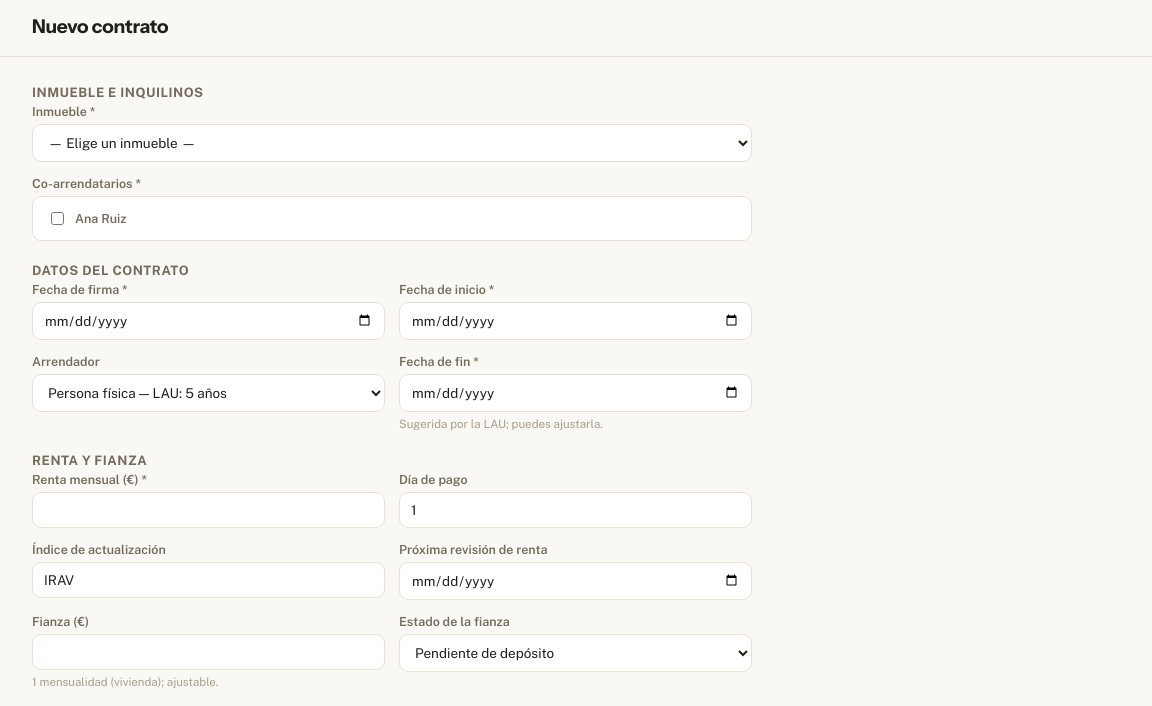
Test: ContratoForm — sugerencias LAU › sobre un inmueble compartido, no deja guardar hasta elegir la habitación
Select "Bravo Murillo 210 (compartido)" in the dropdown labelled "Inmueble *" at x=392, y=143, box x1=32 y1=124 x2=752 y2=162
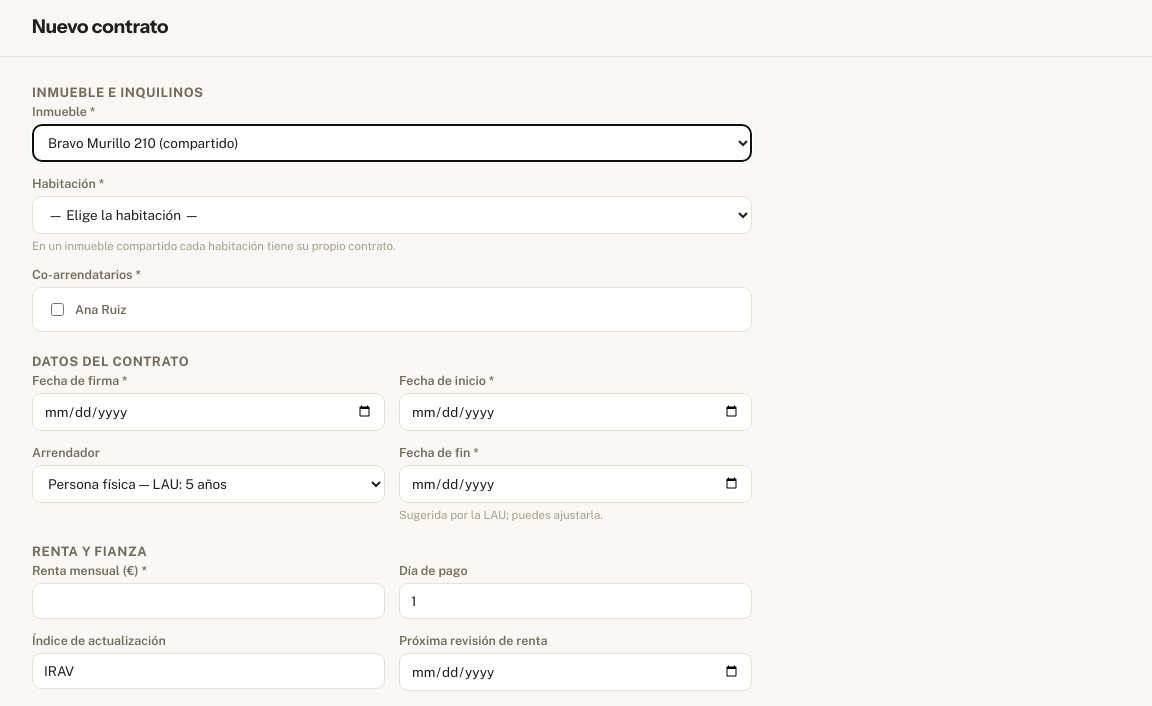
Click the checkbox labelled "Ana Ruiz" at x=58, y=310, box x1=51 y1=303 x2=64 y2=316
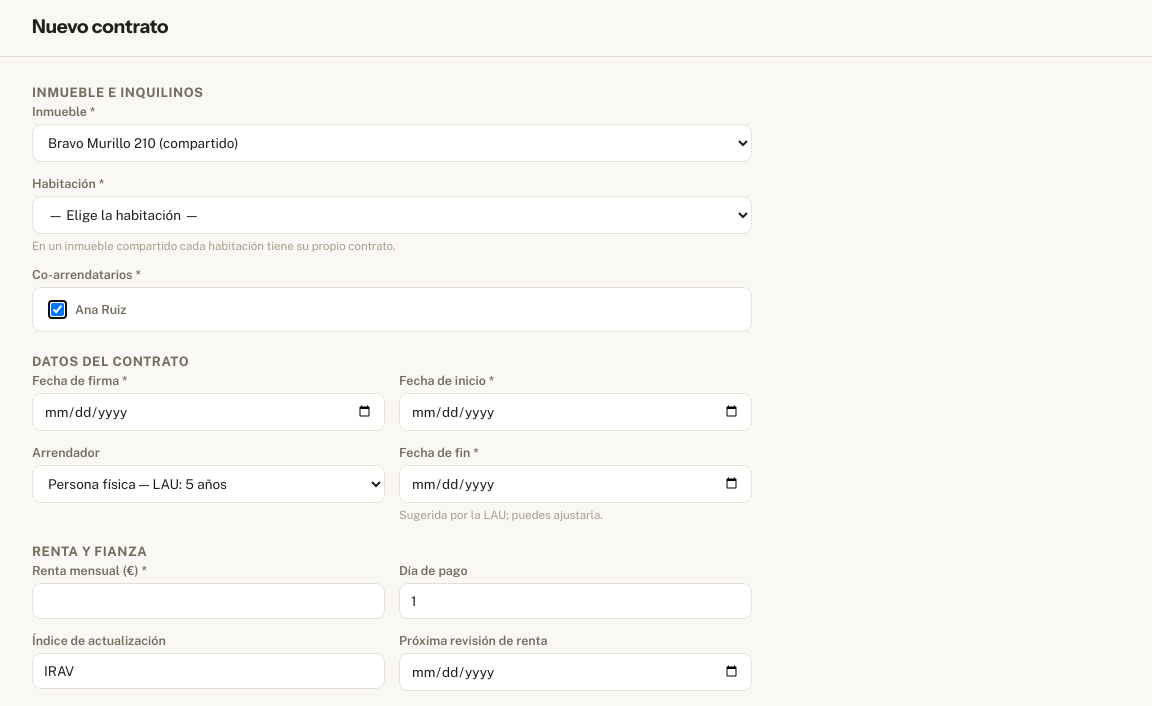
Type "2026-02-01" into the date field labelled "Fecha de firma *" at x=208, y=412, box x1=32 y1=393 x2=385 y2=431
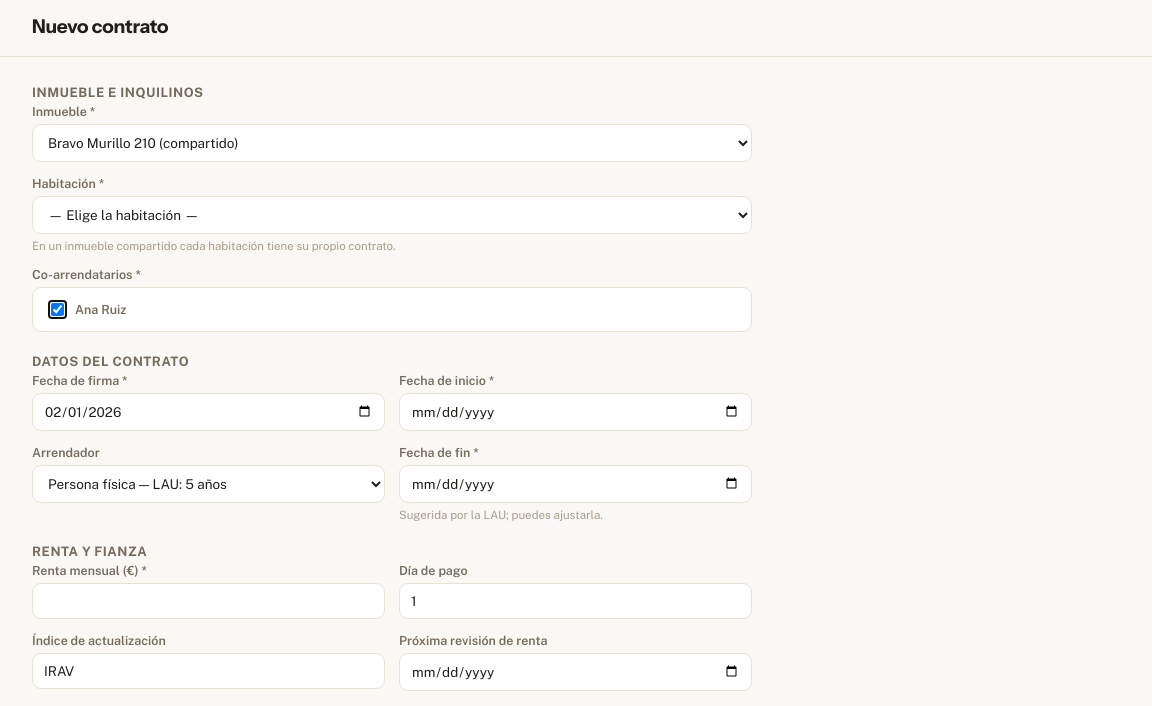
Type "2026-02-01" into the date field labelled "Fecha de inicio *" at x=576, y=412, box x1=399 y1=393 x2=752 y2=431
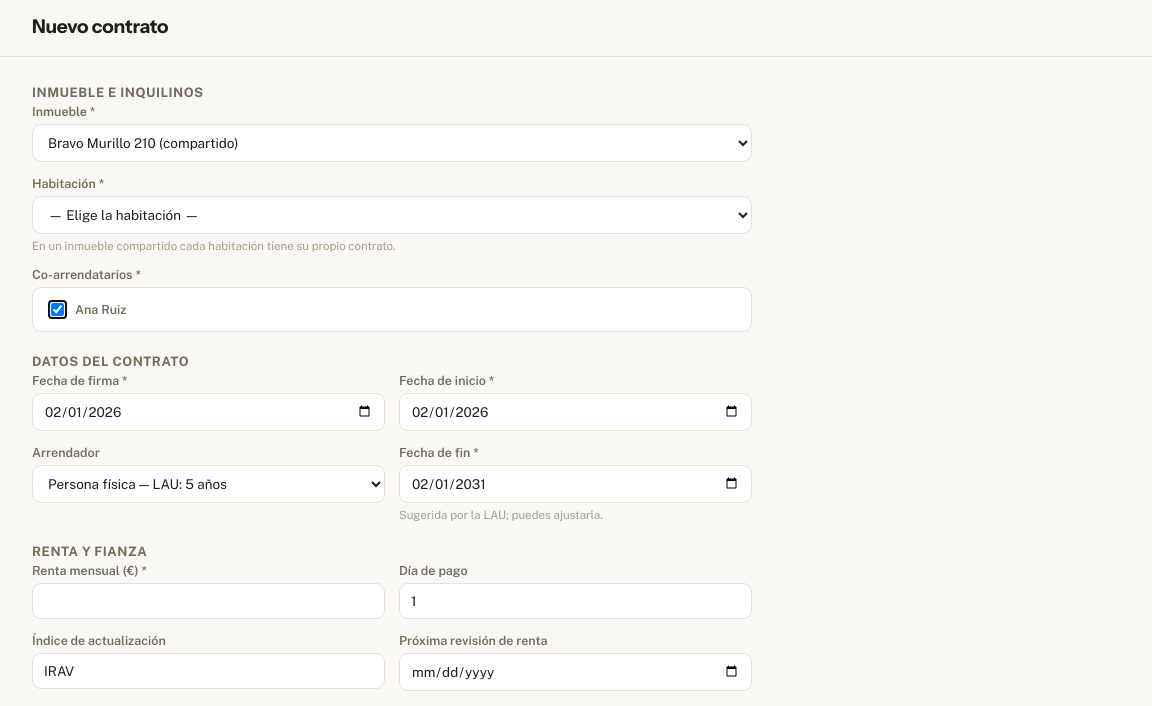
Type "600" into the number field labelled "Renta mensual (€) *" at x=208, y=601, box x1=32 y1=583 x2=385 y2=619
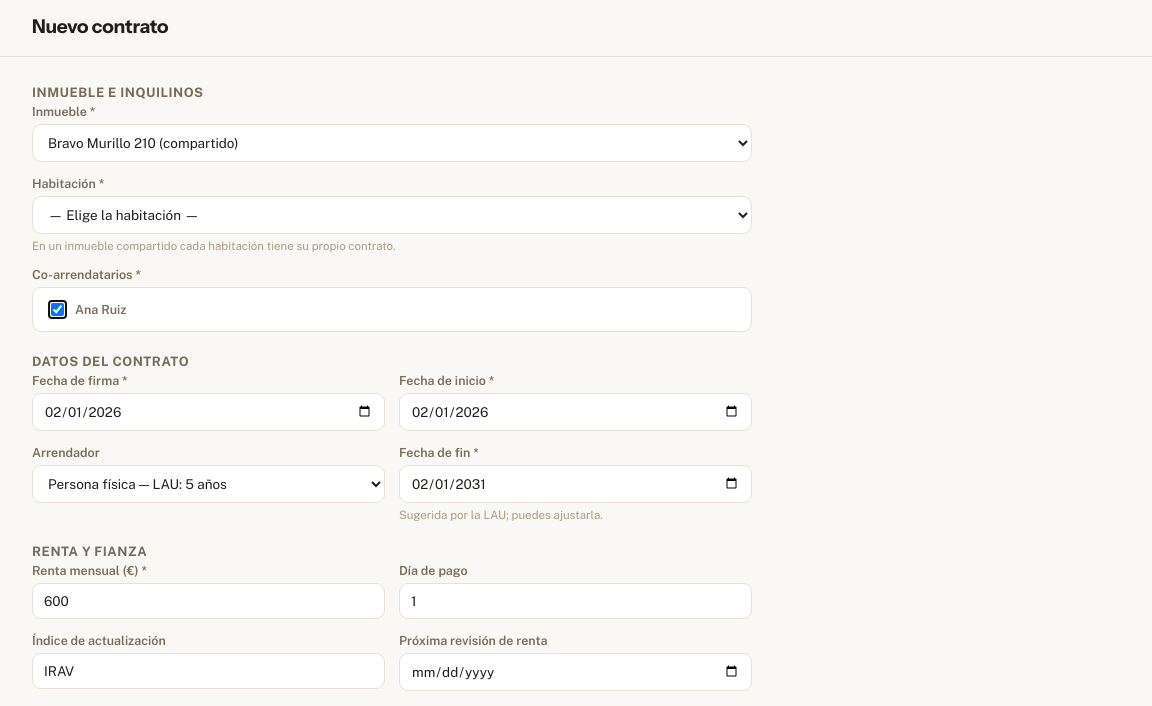
Expected: the dropdown labelled "Habitación *" is shown
Select "Habitación 1" in the dropdown labelled "Habitación *" at x=392, y=215, box x1=32 y1=196 x2=752 y2=234
(page scrolled)
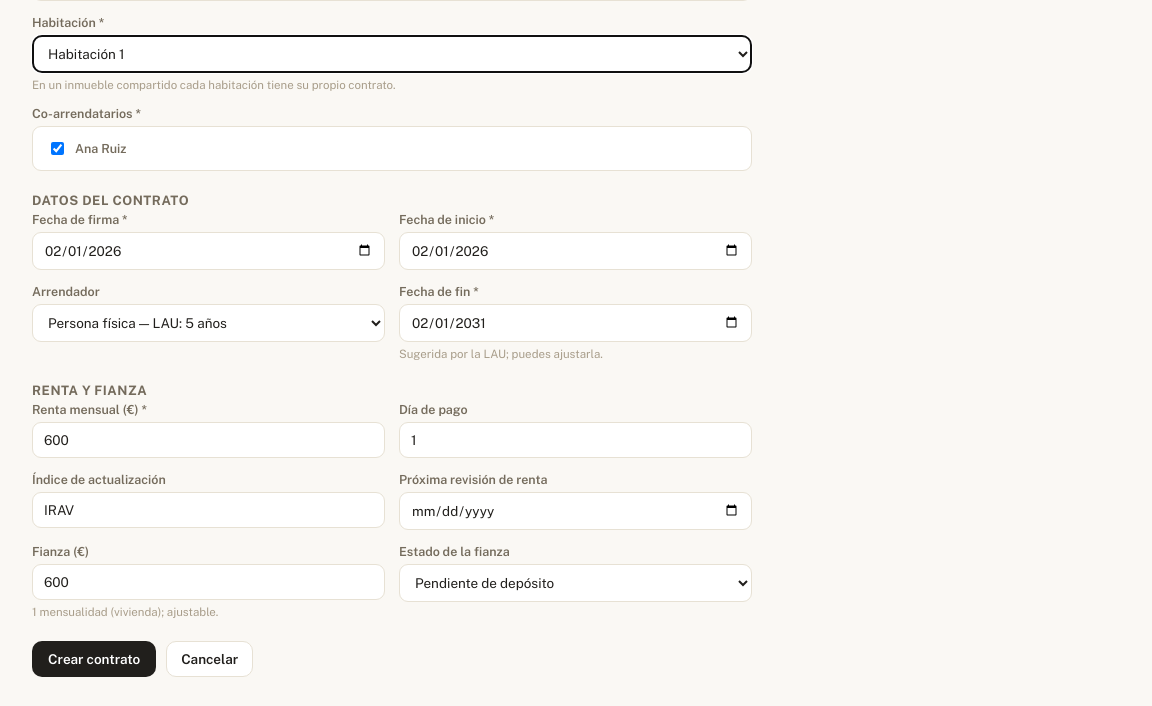
Expected: the button "Crear contrato" is enabled, x1=32 y1=641 x2=156 y2=677
